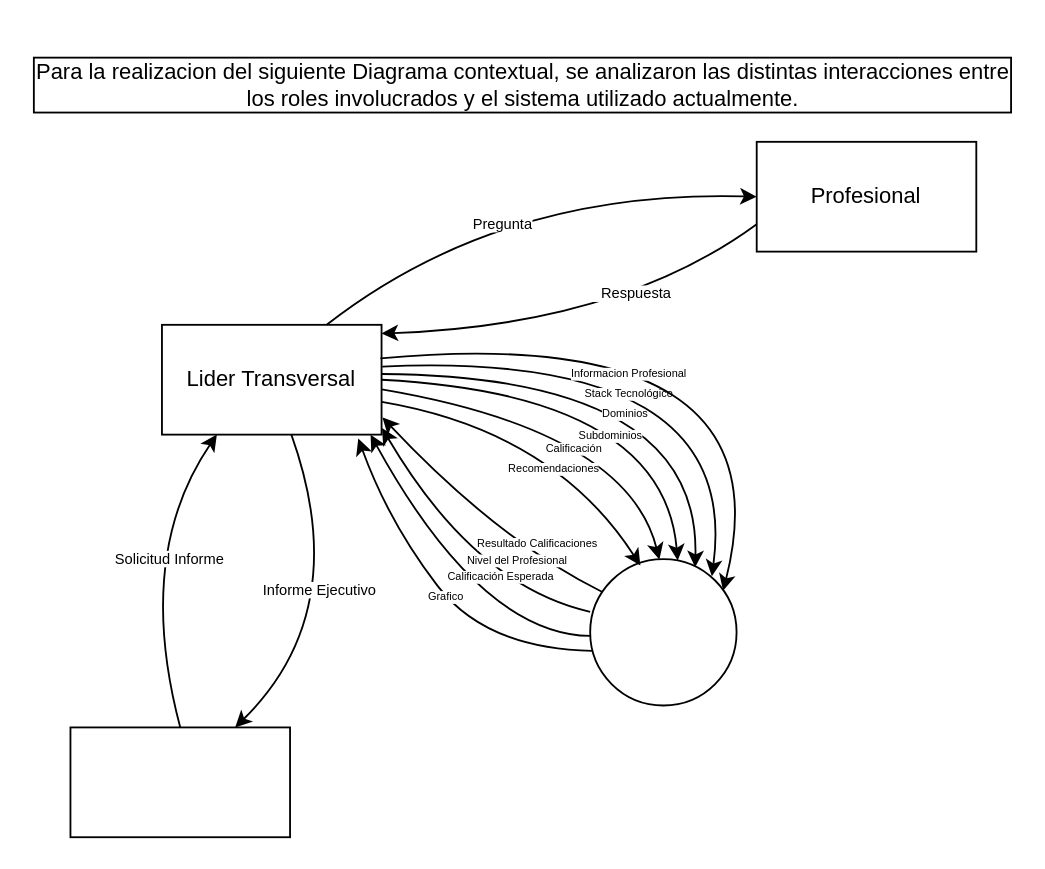
Some shapes in this 1045 by 869 pixel diagram are drawn without their labels. The centre of each missing label's shape, as x and y in pixels:
"Gerente de Operaciones" belongs at (x=179, y=781).
"Hoja de Excel" belongs at (x=662, y=631).
